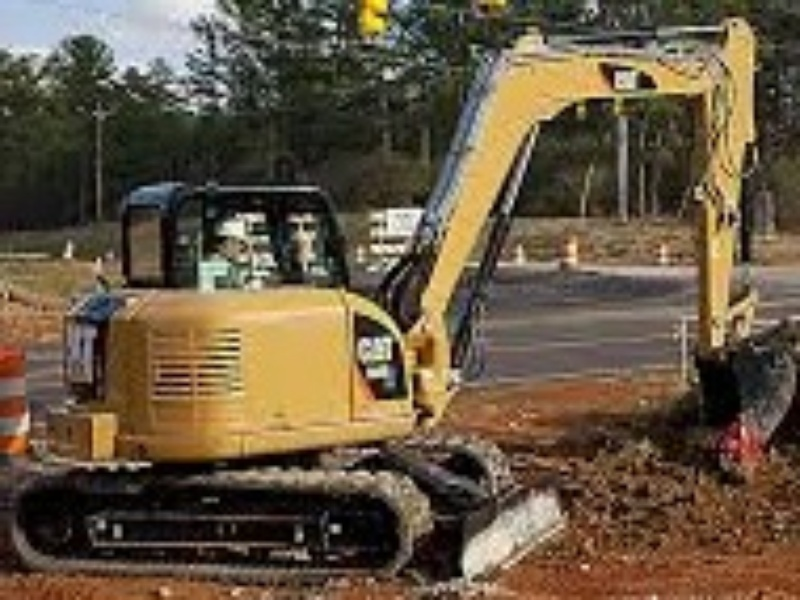wajueji: (6, 155, 640, 600)
